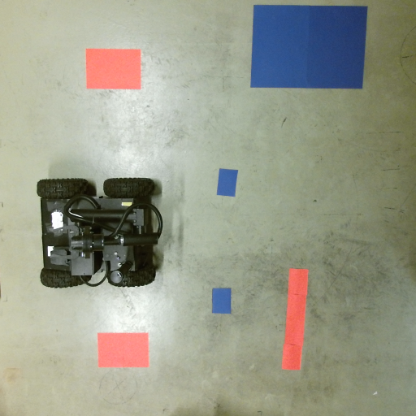Blue: (250, 4, 367, 91), (215, 168, 238, 197), (211, 288, 233, 315)
Jaguar: (34, 177, 160, 289)
Red: (83, 47, 142, 91), (284, 265, 307, 371), (95, 333, 152, 368)
